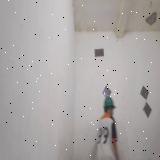Helmet: (103, 95, 116, 110)
